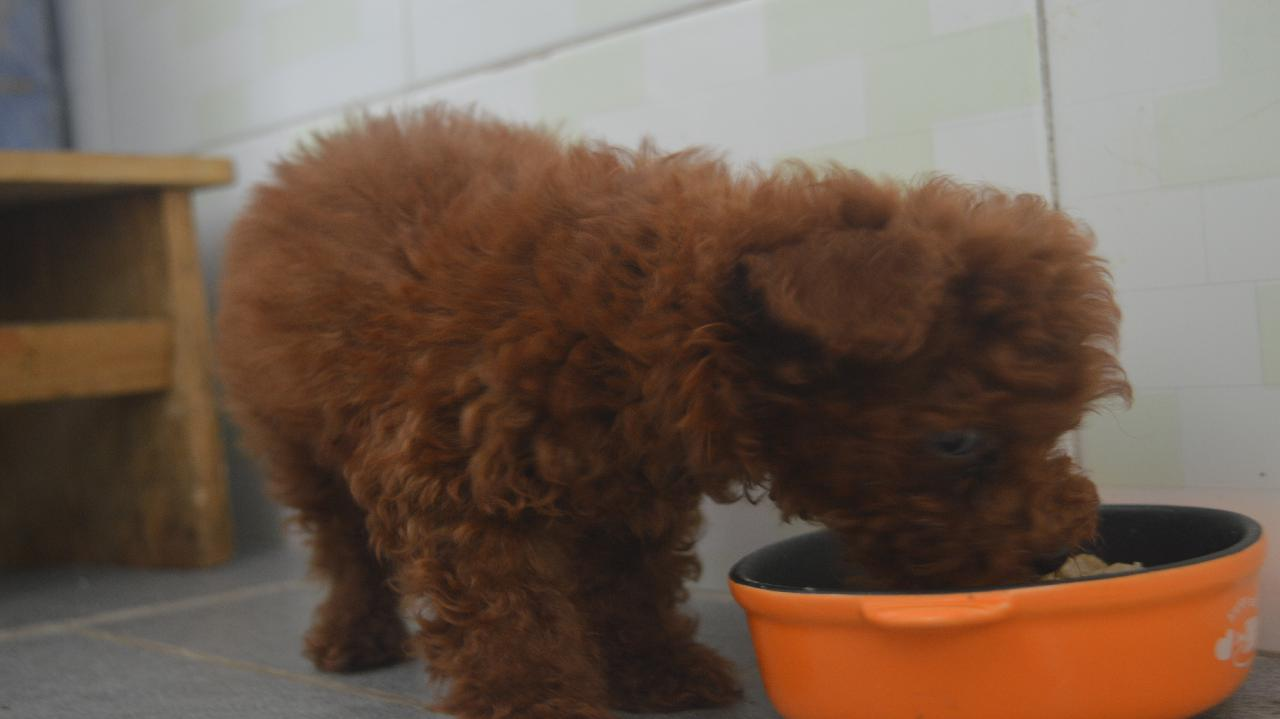coin: (213, 110, 1124, 707)
